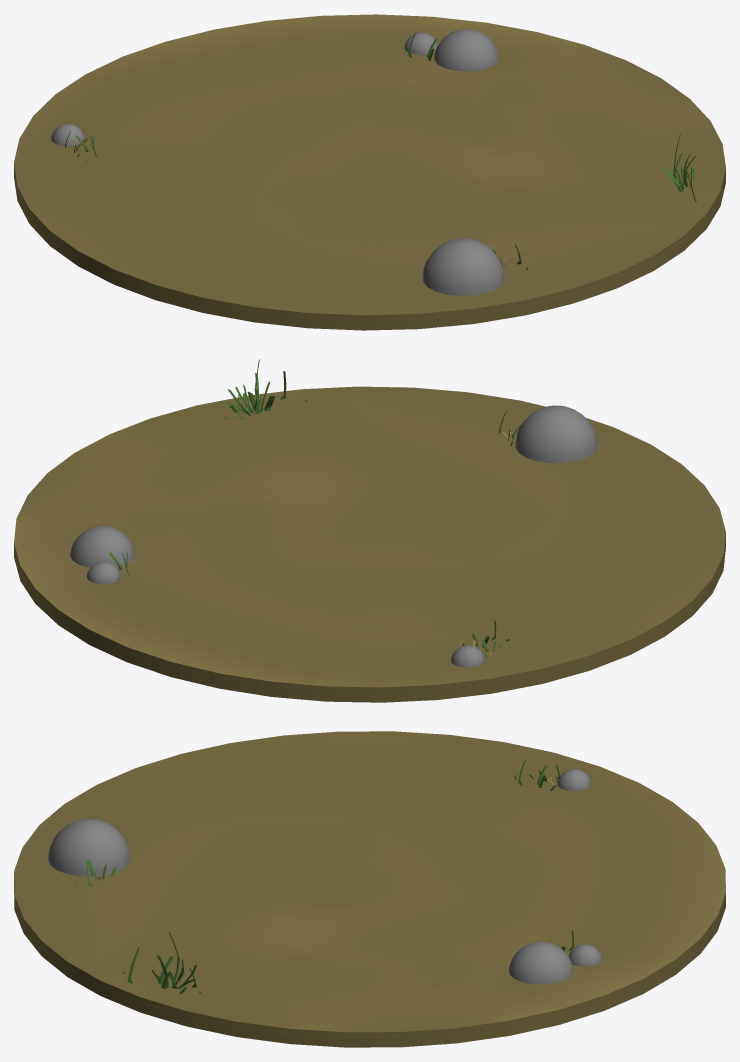
The model's file is Well_base.fbx.
3 renders of one model, top to bottom at view 1: azimuth 30°, elevation 25°; view 2: azimuth 150°, elevation 25°; view 3: azimuth 270°, elevation 25°, orthographic.
Visible parts, largest first — view 1: pCylinder1, pSphere1, pasted__pSphere1, pasted__pasted__pasted__pSphere1, pasted__pasted__pSphere1; view 2: pCylinder1, pSphere1, pasted__pSphere1, pasted__pasted__pasted__pSphere1, pasted__pasted__pSphere1; view 3: pCylinder1, pSphere1, pasted__pSphere1, pasted__pasted__pasted__pSphere1, pasted__pasted__pSphere1.
Part boxes in pixels (x1,y1,x2,y2): pCylinder1: (14, 14, 725, 330); pSphere1: (422, 238, 504, 295); pasted__pSphere1: (434, 29, 498, 71); pasted__pasted__pasted__pSphere1: (51, 123, 84, 145); pasted__pasted__pSphere1: (404, 32, 437, 54); pCylinder1: (14, 386, 725, 702); pSphere1: (515, 405, 597, 463); pasted__pSphere1: (70, 526, 134, 567); pasted__pasted__pasted__pSphere1: (451, 645, 484, 667); pasted__pasted__pSphere1: (86, 561, 120, 583); pCylinder1: (14, 731, 725, 1047); pSphere1: (48, 818, 130, 876); pasted__pSphere1: (508, 941, 573, 984); pasted__pasted__pasted__pSphere1: (557, 768, 591, 791); pasted__pasted__pSphere1: (569, 944, 602, 966).
Size of the model in its own units: 14.4 by 1.91 by 14.4.
15 materials, 11 textured.
